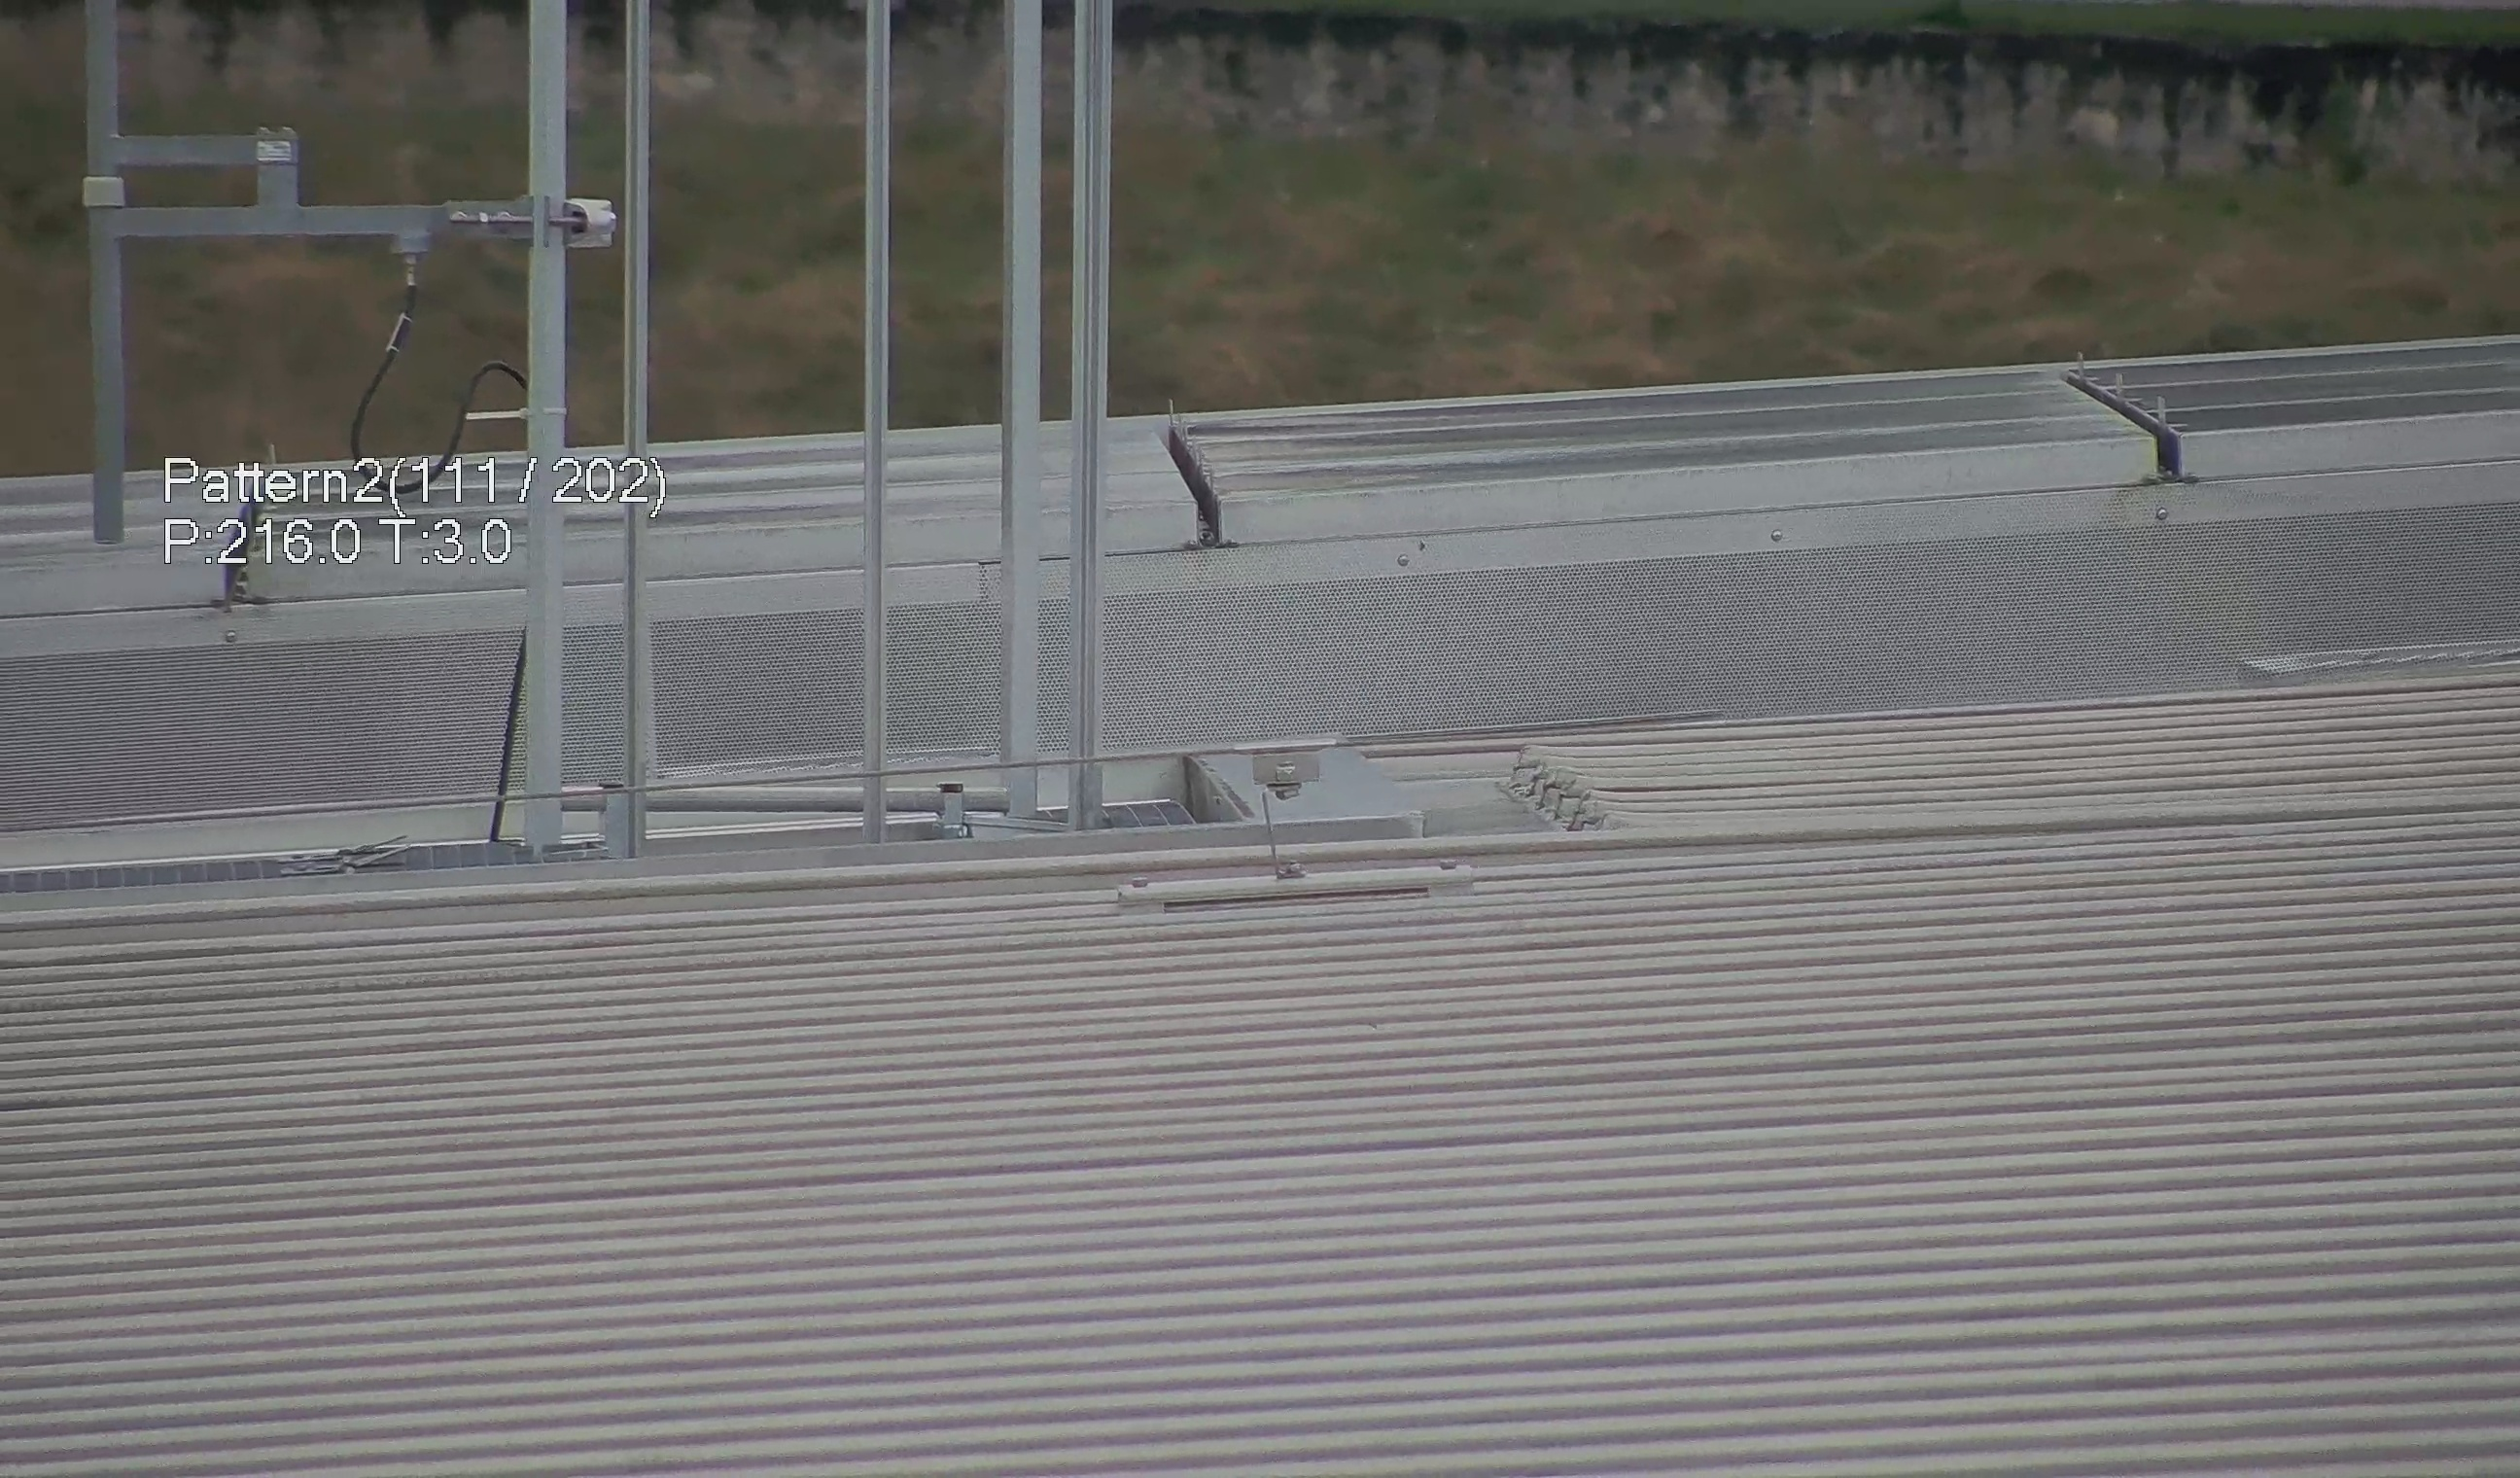Other: (1148, 405, 1231, 549)
